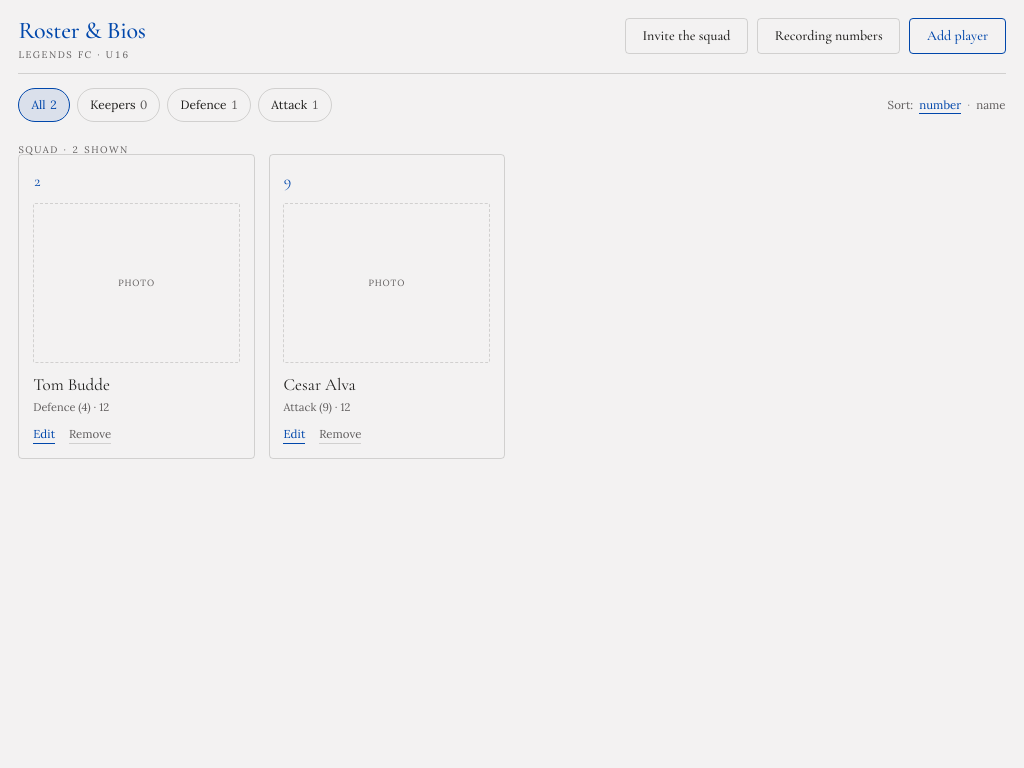
Scenario: what a coach may do › opens the form filled in to edit
The width and height of the screenshot is (1024, 768).
Expected: the button "2 Photo Tom Budde Defence (4)· 12" is shown, [33,169,240,416]
Click the 1st button "Edit".
click(44, 435)  # box [33,425,55,444]
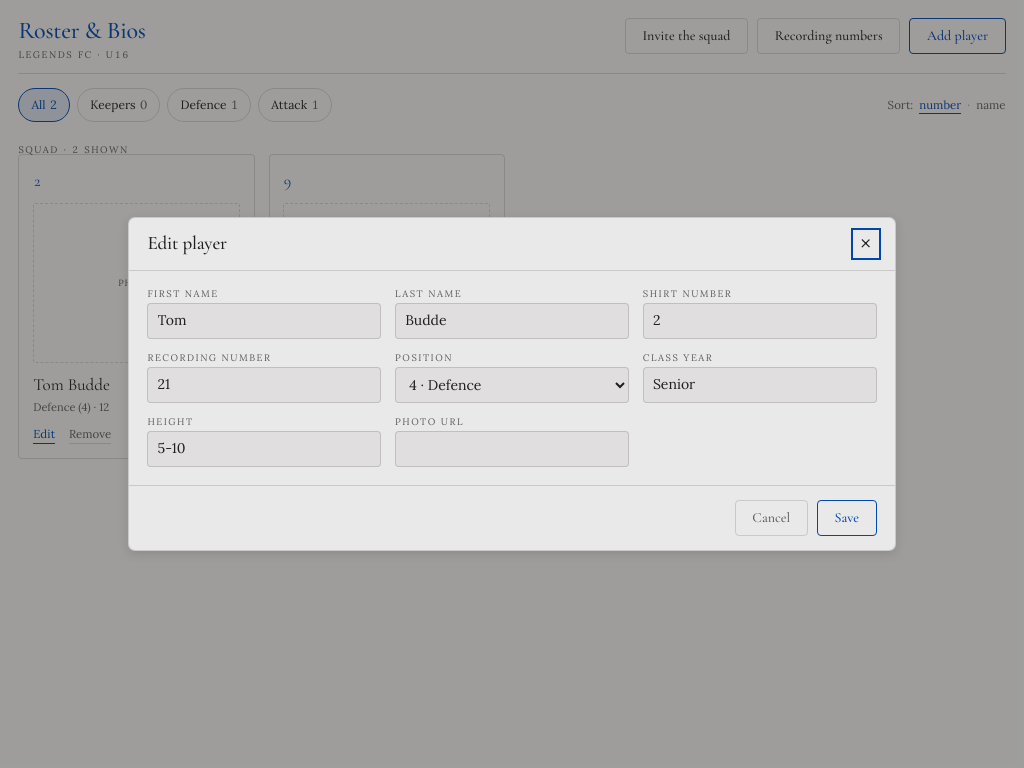
Now the field labelled "First name" holds "Tom", box [147,303,381,339]
